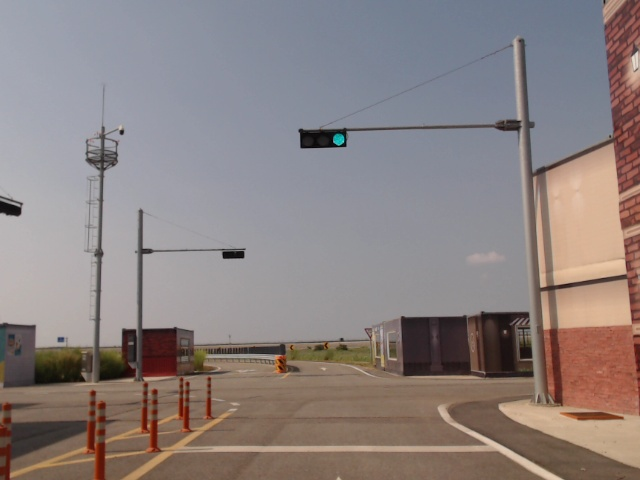green_3: (300, 131, 347, 148)
